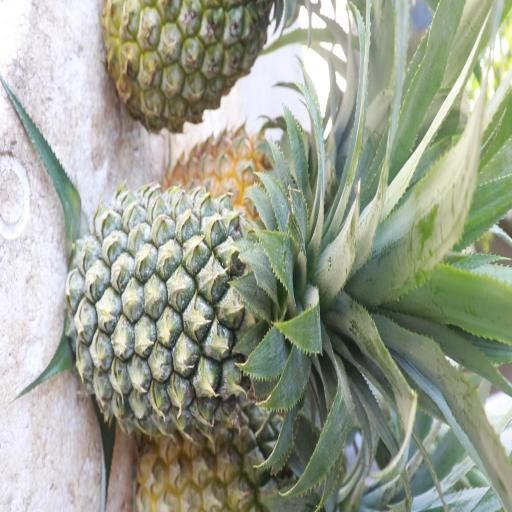------------------------------: (98, 0, 276, 132), (133, 409, 312, 512)
